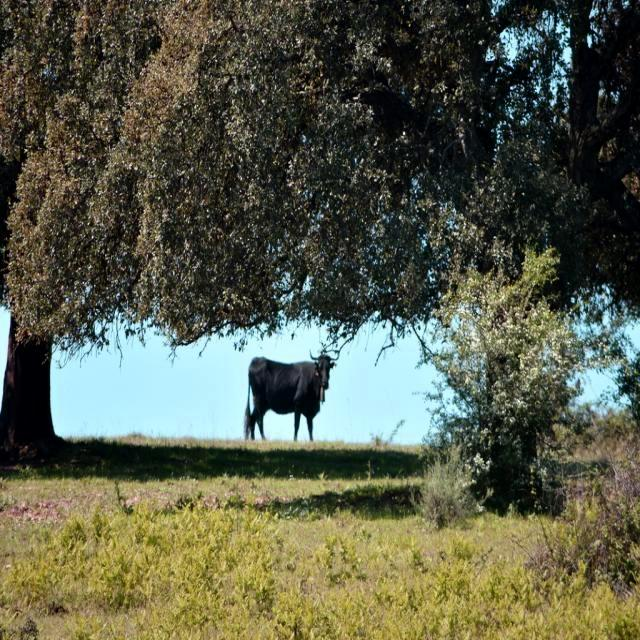COW: (245, 355, 334, 441)
